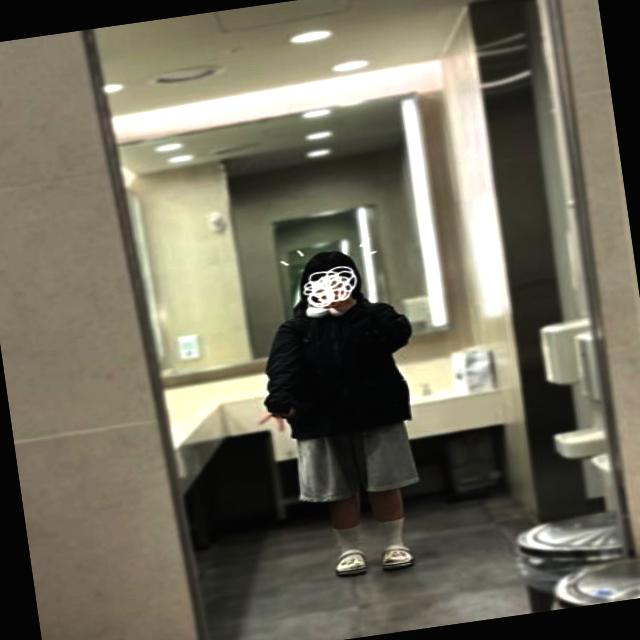padding: (254, 298, 423, 447)
shortpants: (292, 422, 422, 504)
